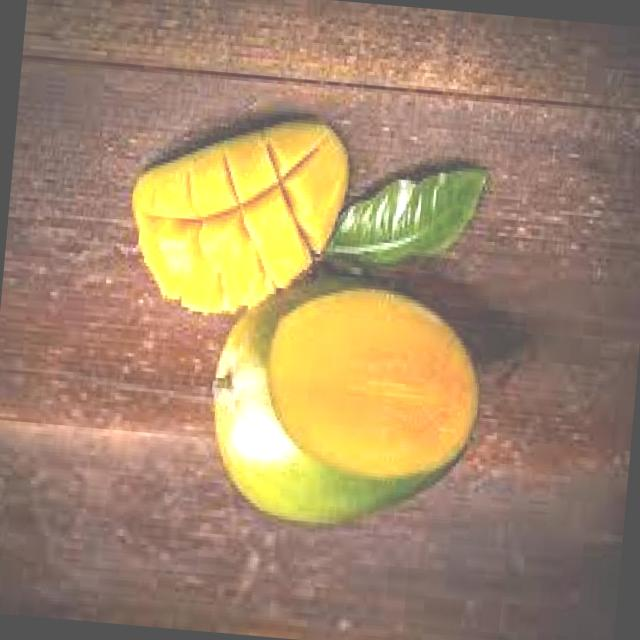Mango: (200, 265, 492, 546), (122, 106, 356, 327)
